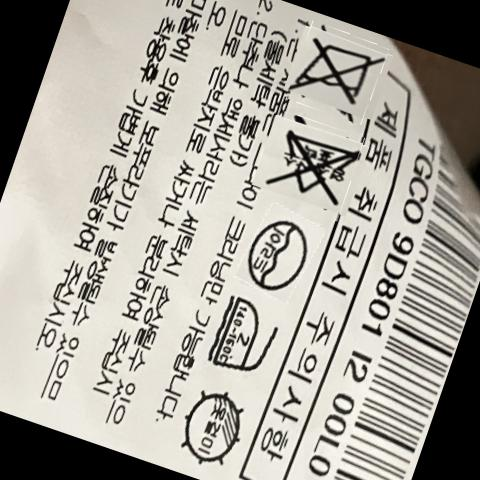DN_bleach: (264, 135, 362, 203)
DN_wash: (295, 44, 387, 110)
dry_clean: (247, 215, 319, 292)
iron_medium: (209, 296, 289, 373)
line_dry_in_shade: (179, 390, 249, 470)
